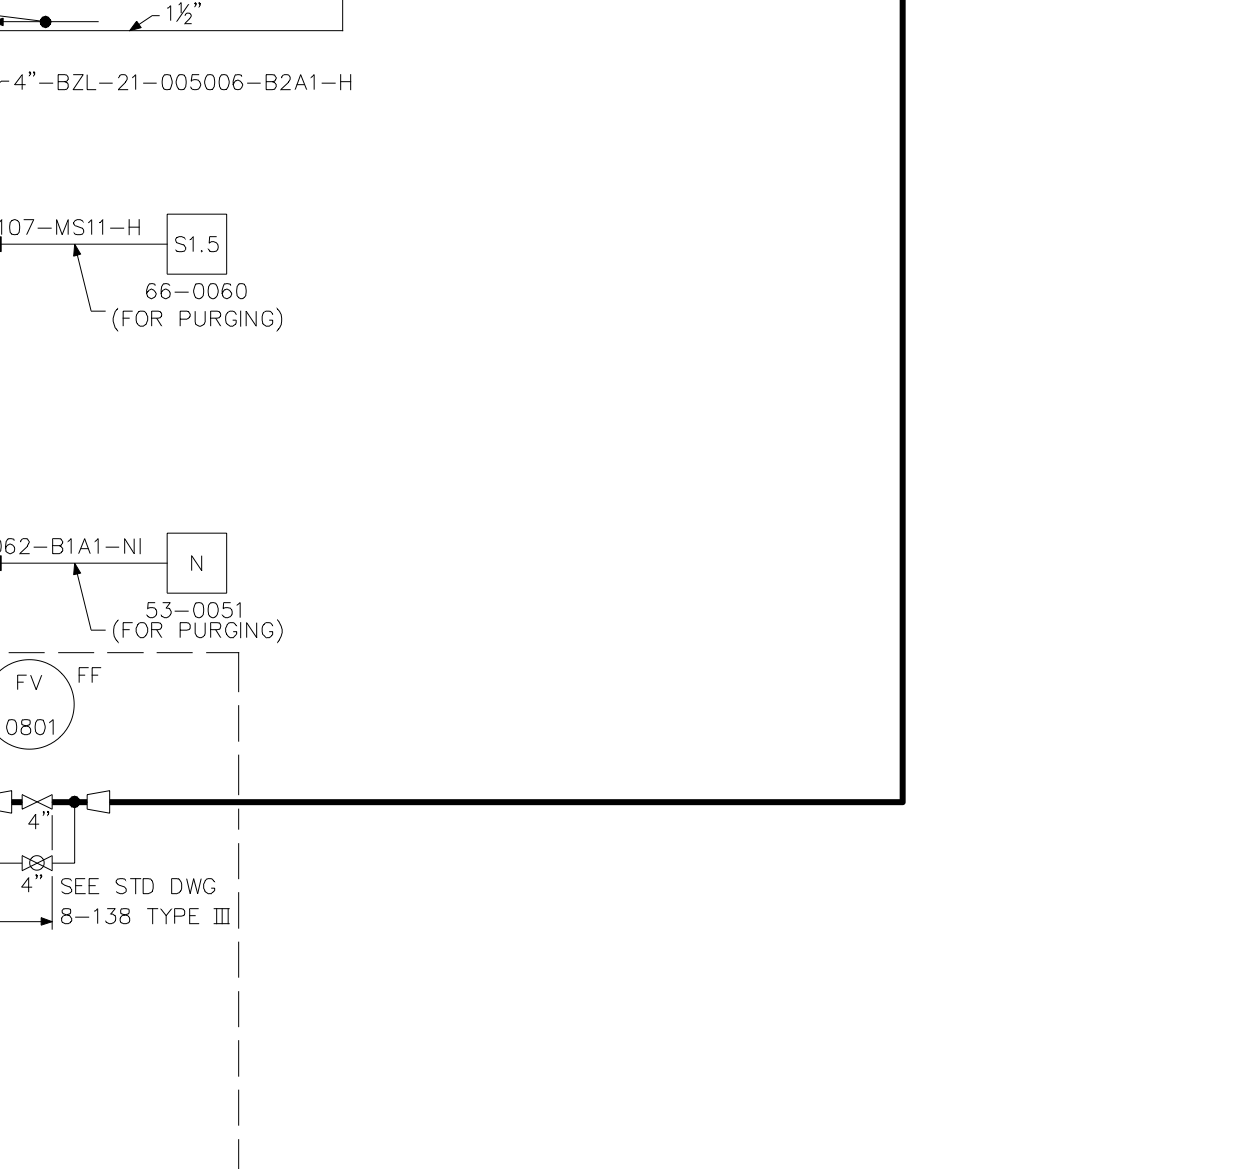Ball Valve: (16, 847, 58, 877)
Line Number: (1, 63, 358, 98)
Reducer: (83, 783, 118, 819)
